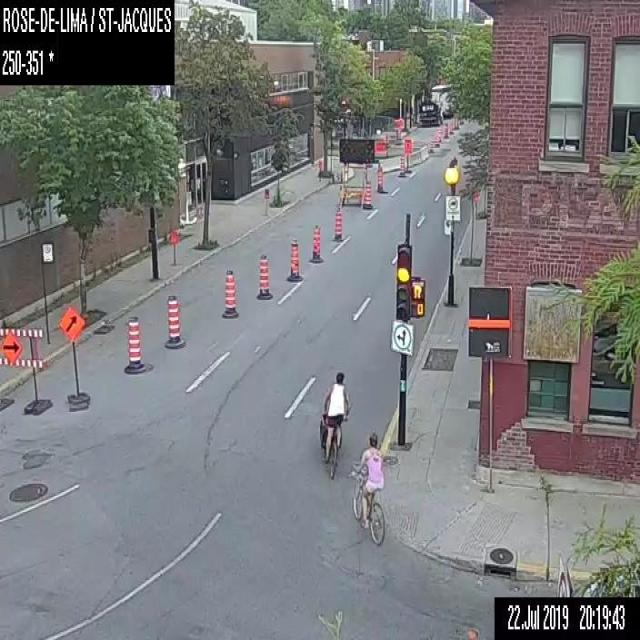construction: (0, 325, 51, 412), (56, 304, 90, 411), (338, 135, 388, 206), (122, 314, 145, 374), (163, 294, 184, 346), (284, 232, 304, 283), (253, 252, 274, 300), (220, 266, 238, 318), (308, 220, 323, 264), (328, 208, 343, 243), (168, 229, 178, 267), (402, 137, 412, 173), (360, 178, 371, 210), (376, 164, 384, 192), (262, 187, 269, 216), (398, 155, 406, 176), (394, 116, 404, 128), (317, 157, 322, 180), (436, 126, 442, 144), (443, 121, 448, 138), (448, 118, 452, 133), (0, 351, 4, 357), (0, 336, 3, 343)
cyclist: (346, 429, 386, 544), (317, 369, 351, 482)
